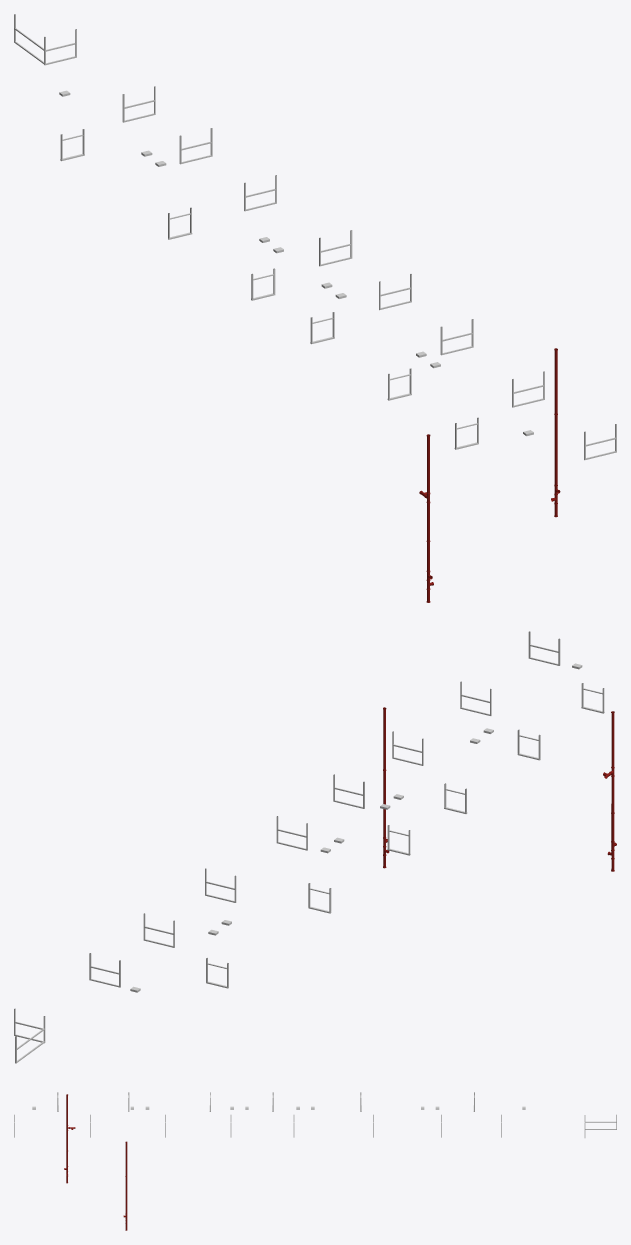
Rendered from SM_H_Building_Tide_Corridor_05H_ATLAS.fbx.
3 views of the same model, one above another, from view 1: azimuth 30°, elevation 25°; view 2: azimuth 150°, elevation 25°; view 3: azimuth 270°, elevation 25° (orthographic). The views are drawn at different scales.
Parts seen in each view (by area): view 1: SM_H_Building_Tide_Corridor_05H_ATLAS; view 2: SM_H_Building_Tide_Corridor_05H_ATLAS; view 3: SM_H_Building_Tide_Corridor_05H_ATLAS.
Part boxes in pixels (x1=…): SM_H_Building_Tide_Corridor_05H_ATLAS: x1=14, y1=14, x2=616, y2=602; SM_H_Building_Tide_Corridor_05H_ATLAS: x1=14, y1=631, x2=616, y2=1063; SM_H_Building_Tide_Corridor_05H_ATLAS: x1=14, y1=1092, x2=616, y2=1230.
Bounding box in the file's own units: 1197 × 6328 × 1108.
